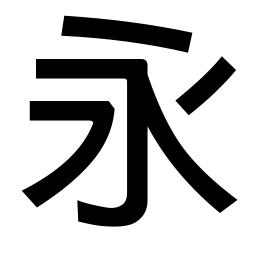D: (59, 13, 195, 53)
HSZ: (117, 56, 150, 98)
Hs: (34, 57, 81, 80)
Ne: (208, 185, 239, 216)
PNc: (154, 98, 192, 139)
PZe: (20, 177, 59, 209)
Ps: (210, 55, 238, 86)
SG: (74, 194, 150, 230)
Sm: (124, 141, 148, 169)
TPZ: (85, 98, 116, 141)
Ts: (27, 98, 56, 123)
